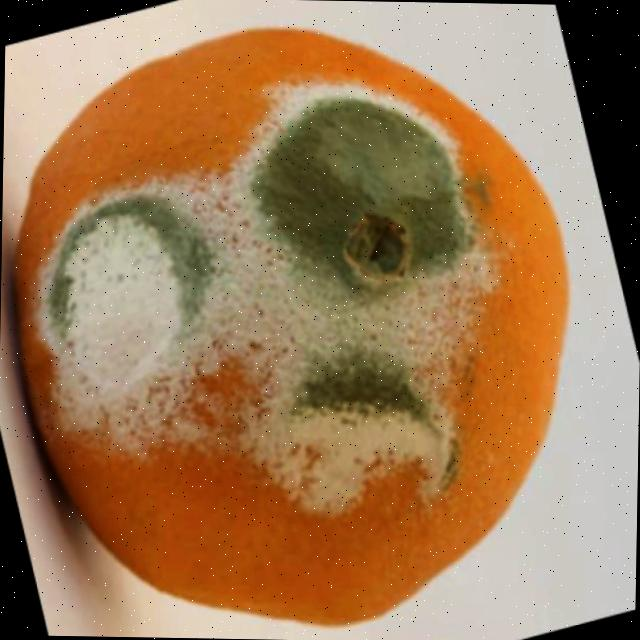rotten orange: (5, 20, 576, 630)
